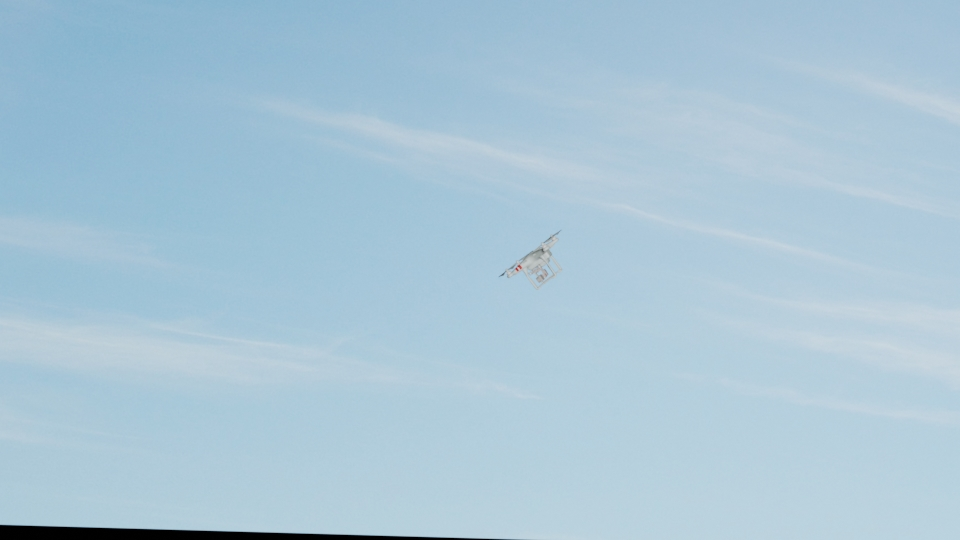drone: (503, 227, 562, 285)
